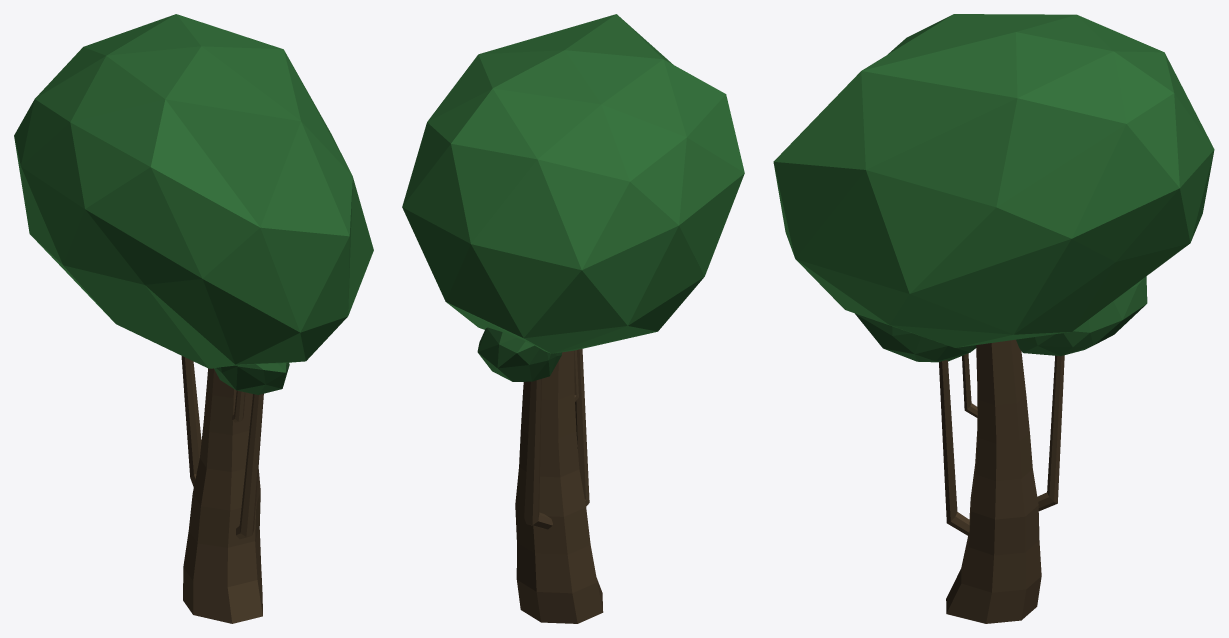
The model's file is tree_moody_one.glb.
3 views of the same model, side by side, from view 1: azimuth 30°, elevation 25°; view 2: azimuth 150°, elevation 25°; view 3: azimuth 270°, elevation 25° (orthographic). The views are drawn at different scales.
Visible parts, largest first — view 1: LeafLobe.001, Trunk, Branch.002, LeafLobe.003, Branch.001; view 2: LeafLobe.001, Trunk, LeafLobe.002, Branch.001, Branch.002; view 3: LeafLobe.001, Trunk, LeafLobe.002, LeafLobe.003, Branch.002, Branch.001.
Boxes of the visible parts, x1=… form: LeafLobe.001: x1=14, y1=14, x2=373, y2=368; Trunk: x1=183, y1=368, x2=262, y2=623; Branch.002: x1=236, y1=393, x2=263, y2=538; LeafLobe.003: x1=214, y1=362, x2=289, y2=394; Branch.001: x1=181, y1=356, x2=201, y2=487; LeafLobe.001: x1=402, y1=14, x2=744, y2=353; Trunk: x1=515, y1=350, x2=603, y2=623; LeafLobe.002: x1=477, y1=327, x2=562, y2=381; Branch.001: x1=524, y1=379, x2=552, y2=529; Branch.002: x1=575, y1=349, x2=589, y2=506; LeafLobe.001: x1=773, y1=14, x2=1214, y2=347; Trunk: x1=946, y1=339, x2=1041, y2=623; LeafLobe.002: x1=1016, y1=276, x2=1147, y2=356; LeafLobe.003: x1=855, y1=313, x2=976, y2=362; Branch.002: x1=939, y1=360, x2=969, y2=536; Branch.001: x1=1037, y1=355, x2=1064, y2=511.
Size of the model in its own units: 12.5 by 24.6 by 17.3.
